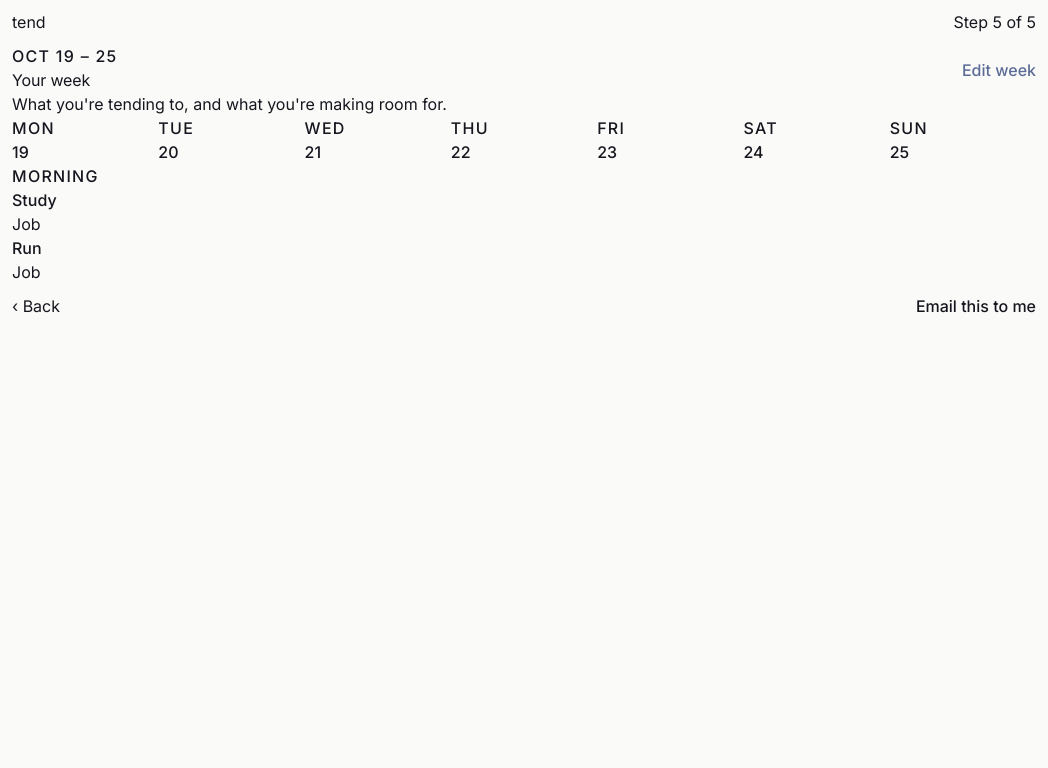
Test: YourWeekStep › shows the week as a day-and-time grid, with an unscheduled column
Click the button "Edit week".
click(999, 70)  # box [962,48,1036,92]
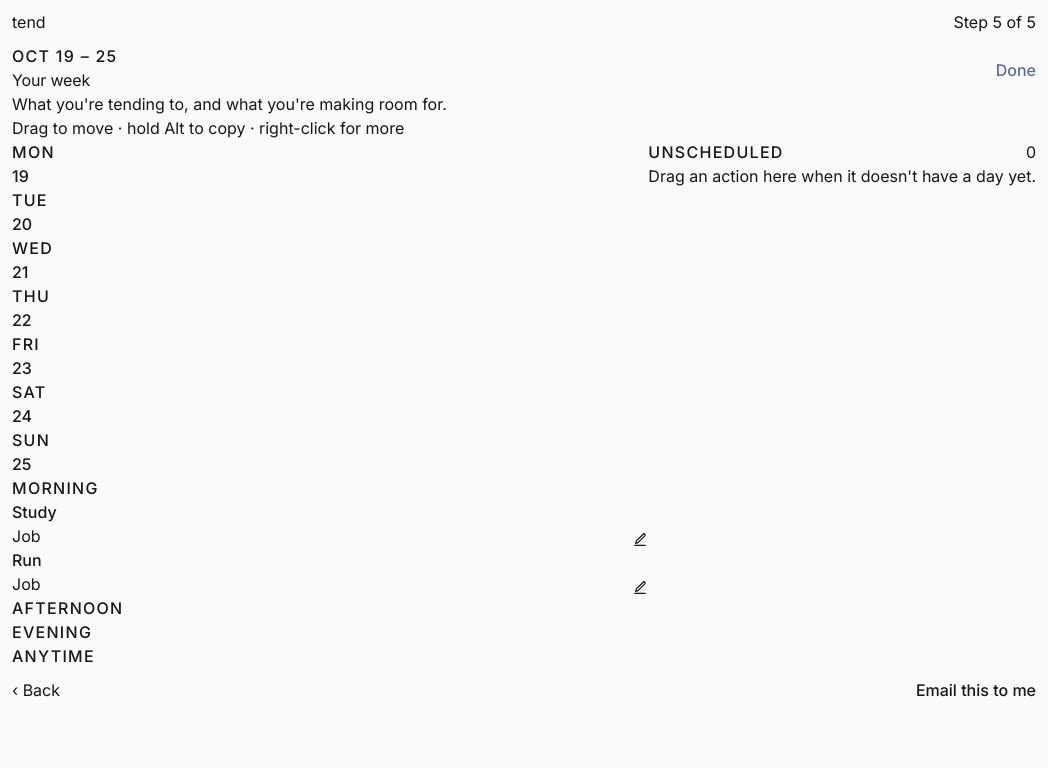
Check: the heading "Afternoon" is shown, box [12,598,124,618]
Check: the heading "Evening" is shown, box [12,622,92,642]
Check: the heading "Anytime" is shown, box [12,646,95,666]
